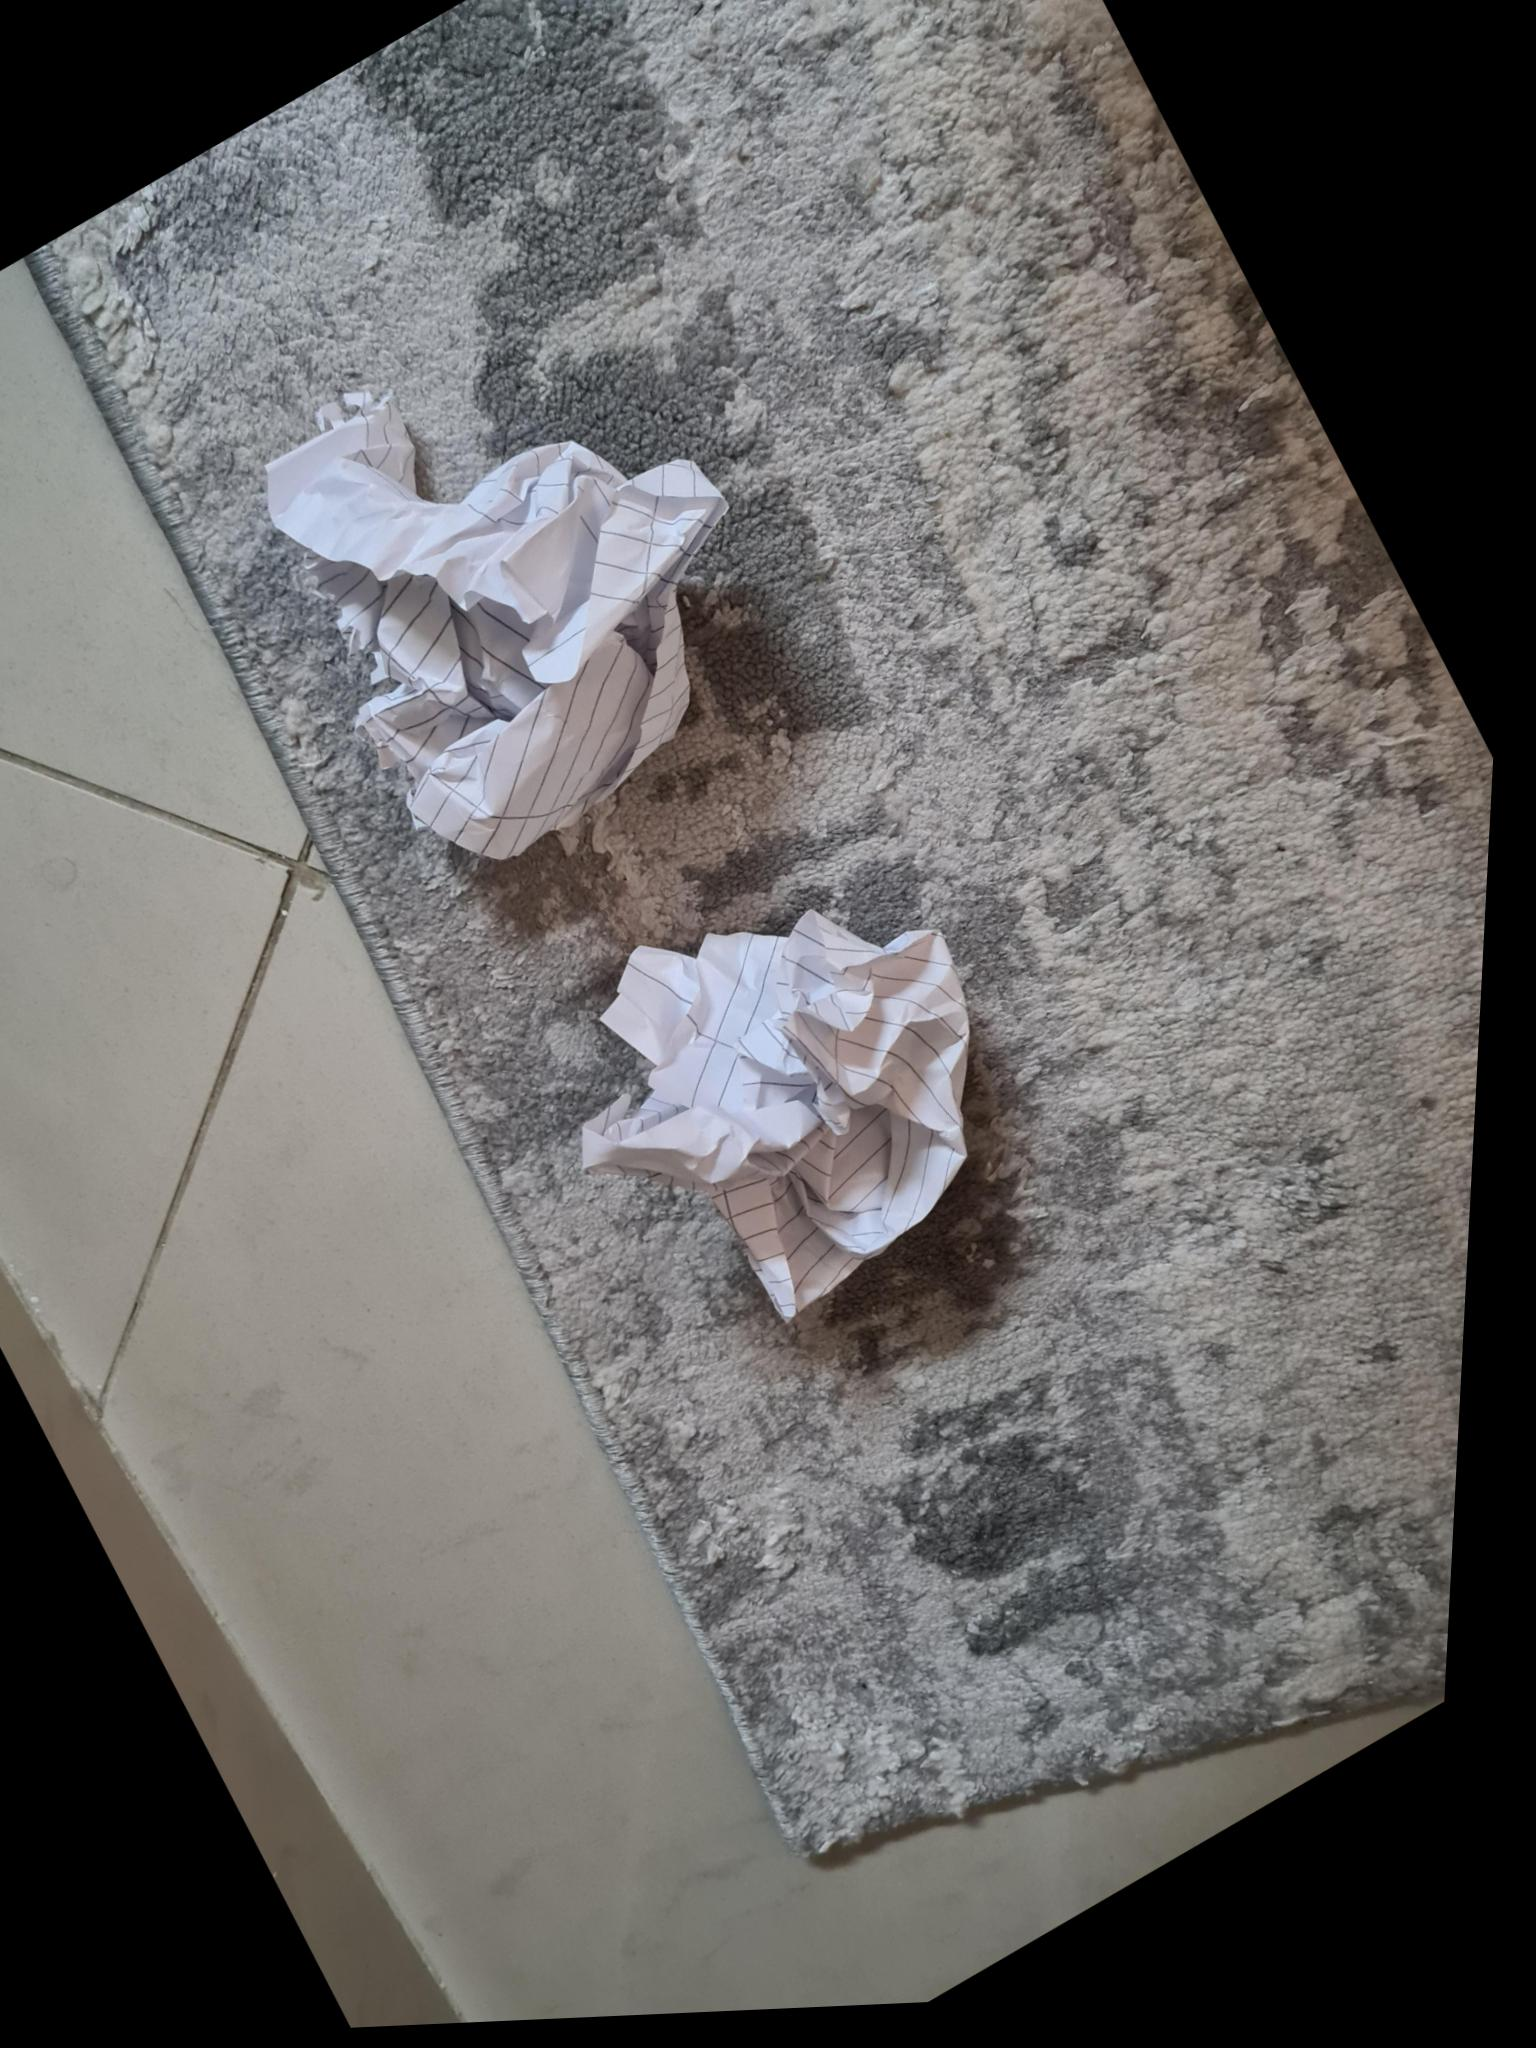paper: (187, 252, 802, 906), (524, 806, 1054, 1343)
